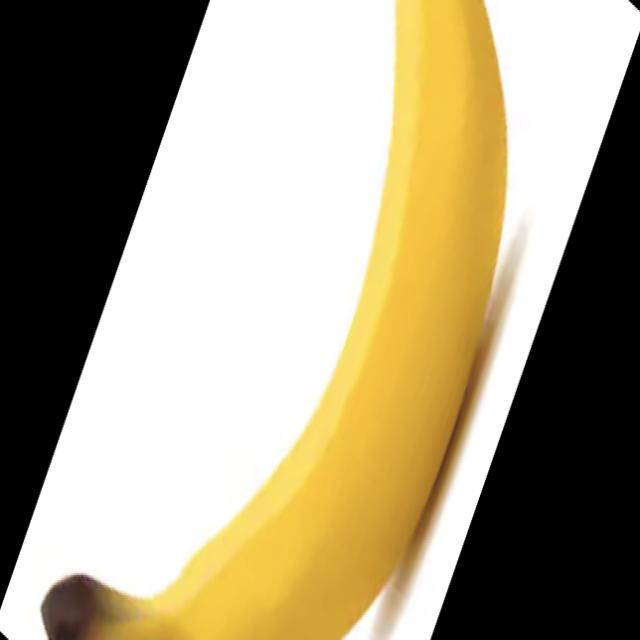god quality banana: (42, 2, 508, 639)
